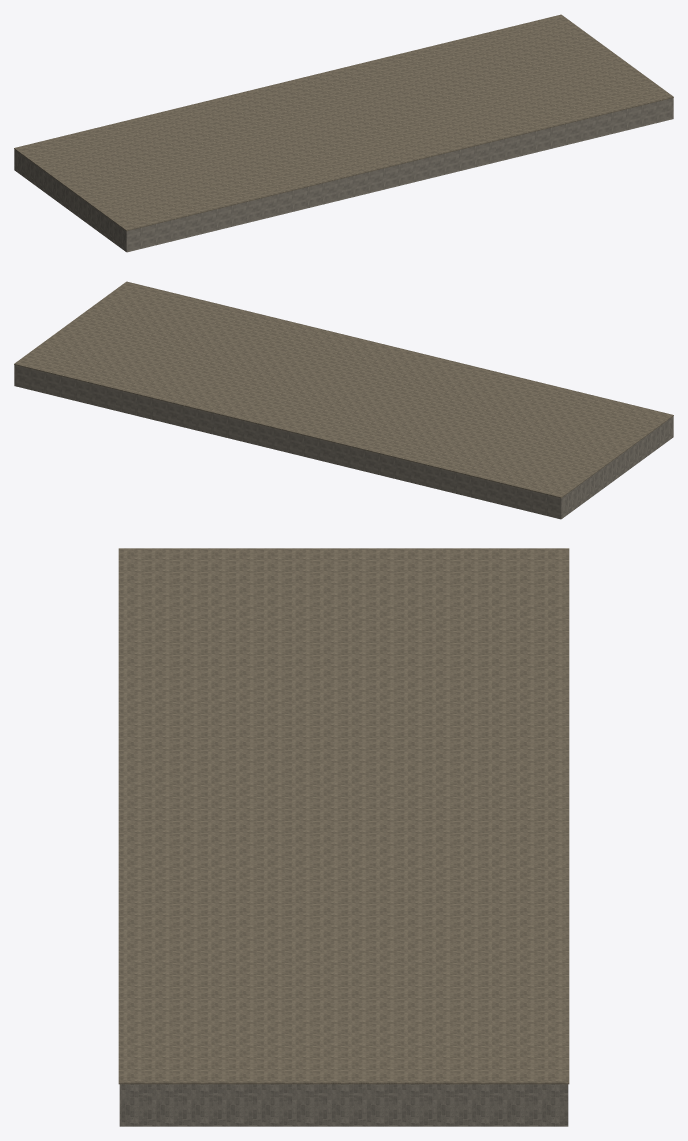
The model's file is SM_Art_Masonry_9000x3200x350.gltf.
The picture shows the model from 3 angles, top to bottom: view 1: azimuth 30°, elevation 25°; view 2: azimuth 150°, elevation 25°; view 3: azimuth 270°, elevation 25°; orthographic projection. The views are drawn at different scales.
Visible parts, largest first — view 1: SM_Art_Masonry_9000x3200x350; view 2: SM_Art_Masonry_9000x3200x350; view 3: SM_Art_Masonry_9000x3200x350.
Boxes of the visible parts, x1,y1,x2,y2 form: SM_Art_Masonry_9000x3200x350: (14,14,673,252); SM_Art_Masonry_9000x3200x350: (14,281,673,519); SM_Art_Masonry_9000x3200x350: (118,548,569,1126).
Size of the model in its own units: 90.1 by 3.5 by 32.1.
Materials: 2 (2 with a texture image).
